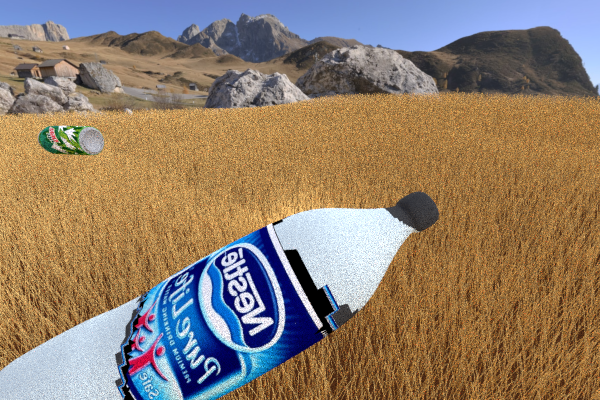bottle: (0, 190, 431, 400)
can: (338, 102, 372, 120), (280, 101, 297, 121)
